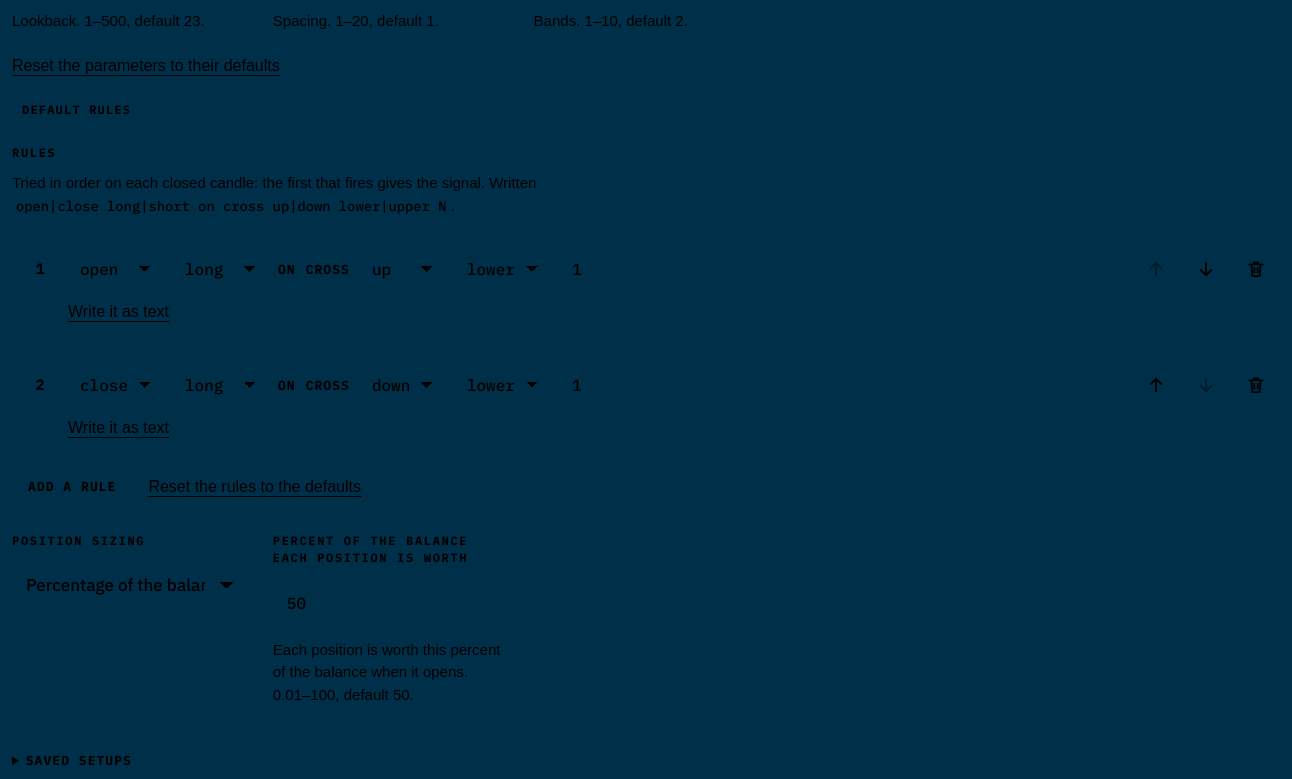
Test: the position sizing › says when a value is out of range
This screenshot has width=1292, height=779.
(page scrolled)
Select "Fixed amount" in the dropdown labelled "Position sizing". click: [130, 586]
box: left=12, top=560, right=249, bottom=612
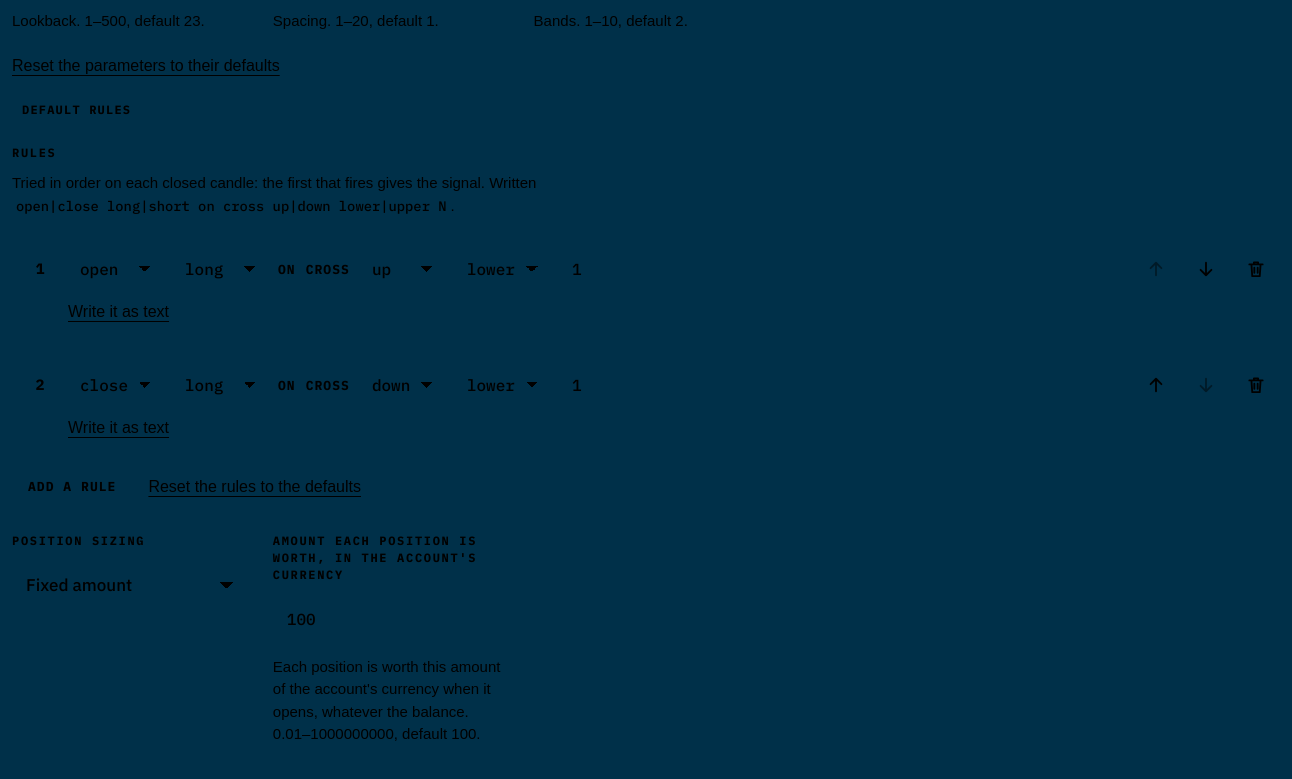
Replace the text in the number field labelled "Amount each position is worth, in the account's currency" with "0". click: [391, 620]
box: left=273, top=594, right=510, bottom=646
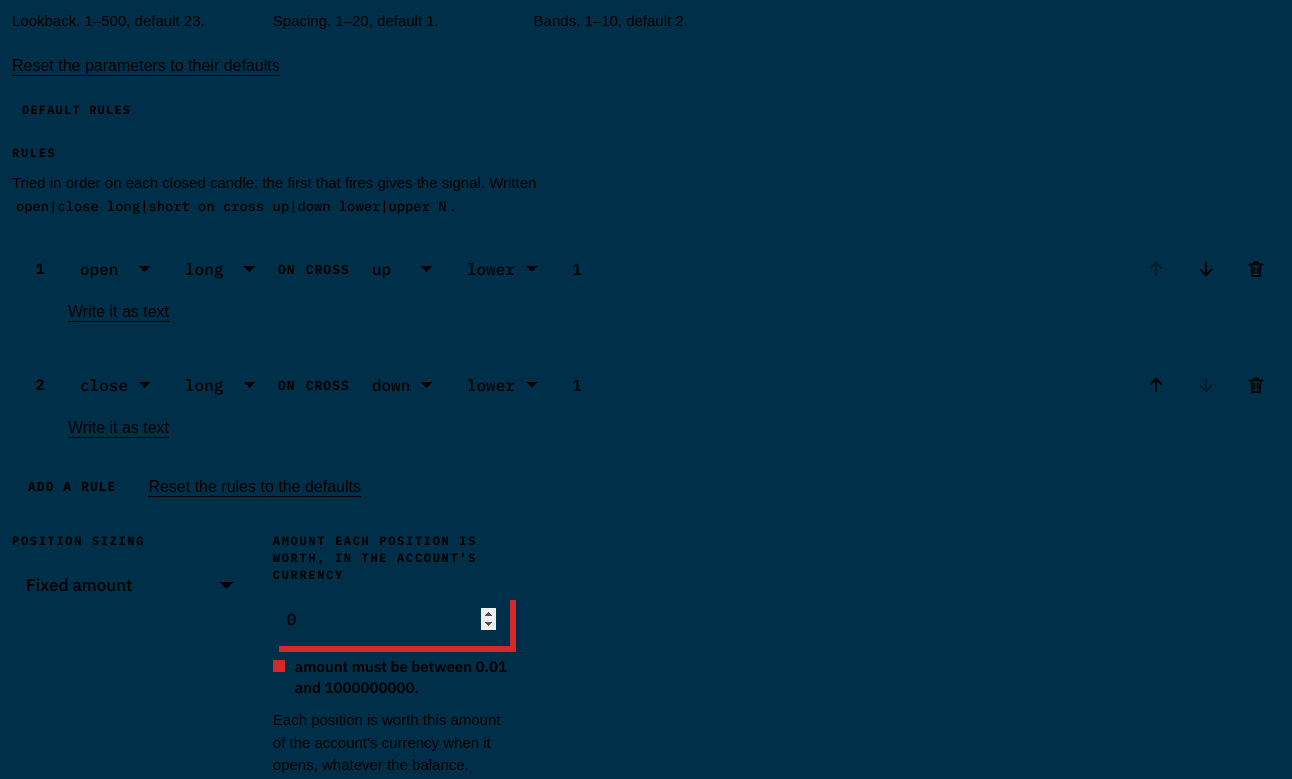
Result: the text "amount must be between 0.01 and 1000000000." is shown at left=273, top=656, right=510, bottom=699
